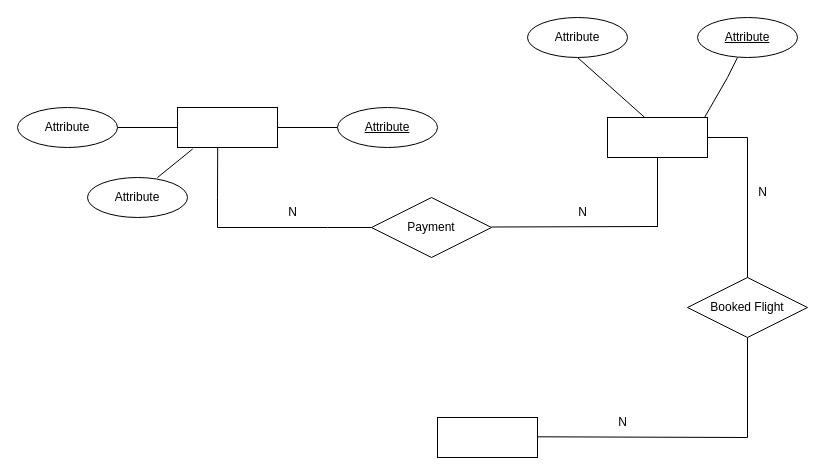
Image size: 825x475. Some labels were removed from this diagram. Here are the shapes that lost their labels. From the top down, the box of each, then its label:
(176, 106, 278, 148): Customer
(606, 116, 708, 158): Ticket Status
(436, 416, 538, 458): Entity
